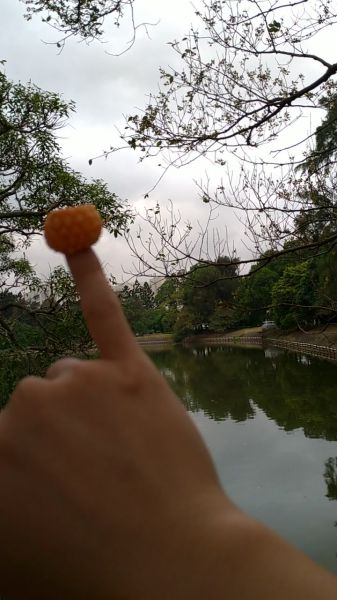eggs: (45, 203, 102, 254)
